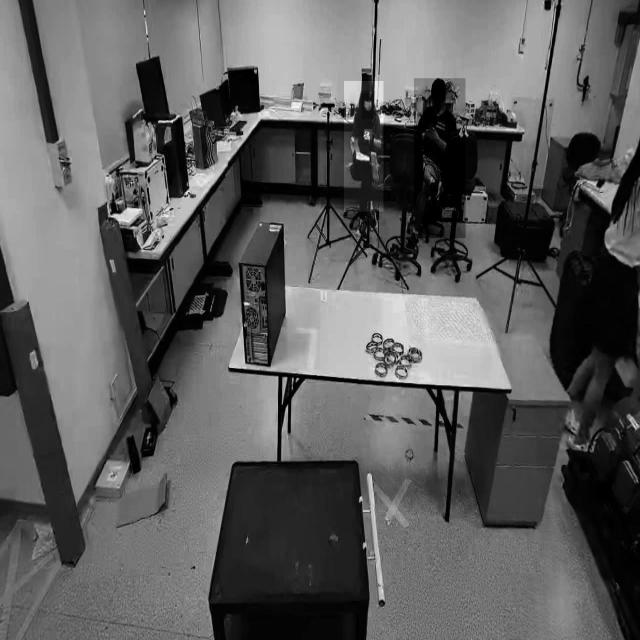face_mask: (362, 93, 374, 119)
hand_noglove: (428, 124, 439, 140), (424, 124, 432, 140), (363, 129, 372, 140)
head_nohelmet: (361, 76, 375, 92), (432, 77, 446, 91)
person: (414, 78, 466, 239), (344, 81, 384, 212)
